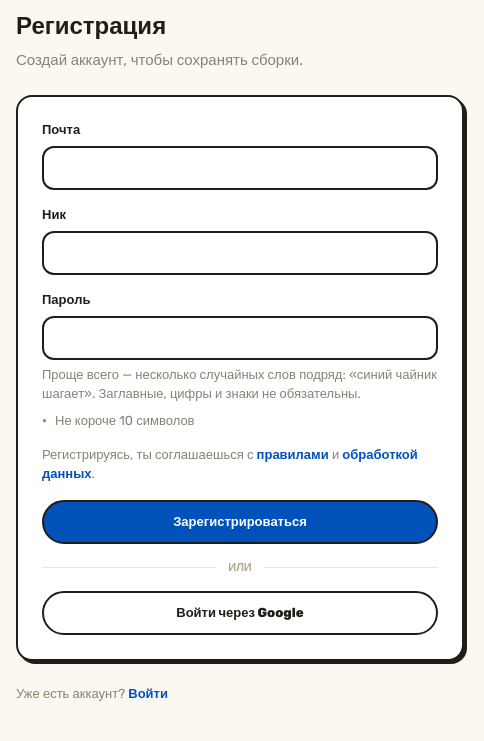
Test case: RegisterPage — поле «Ник» › срезает ведущую собаку при вводе
The image size is (484, 741).
Type "@SpeedCuber" into the field labelled "Ник" at point(240, 253), box x1=42 y1=231 x2=438 y2=275
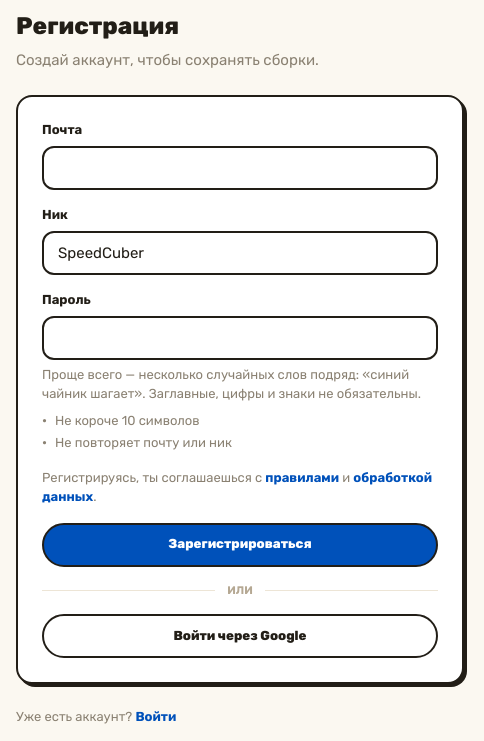
Check: the field labelled "Ник" holds "SpeedCuber", box x1=42 y1=231 x2=438 y2=275
